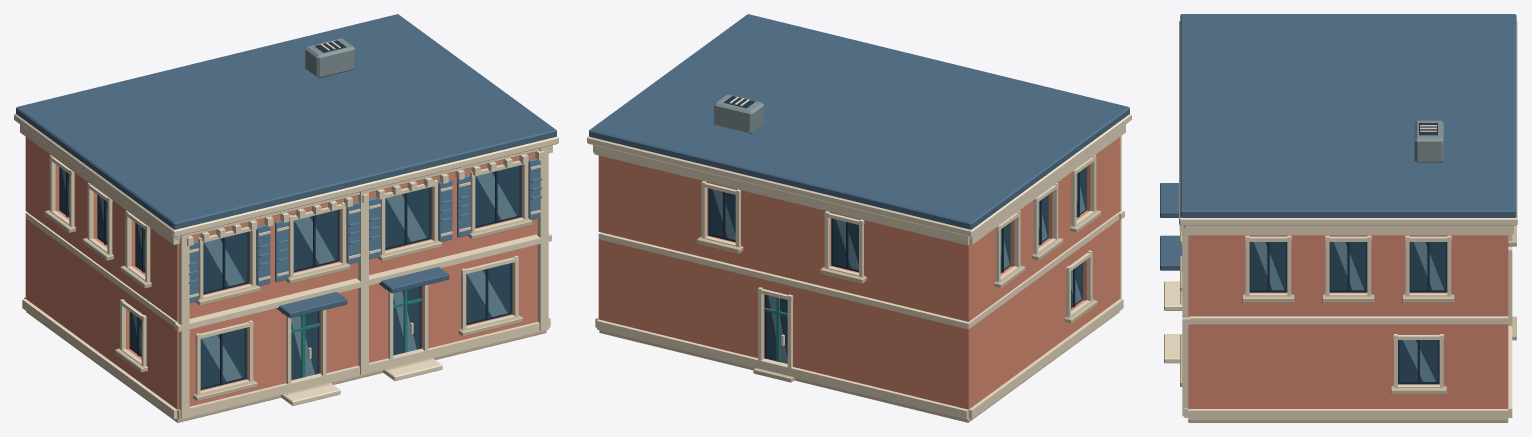
Rendered from four_unit_walkup.glb.
The picture shows the model from 3 angles, left to right: view 1: azimuth 30°, elevation 25°; view 2: azimuth 150°, elevation 25°; view 3: azimuth 270°, elevation 25°; orthographic projection. The views are drawn at different scales.
Parts seen in each view (by area): view 1: FourUnitWalkup_StaticMesh; view 2: FourUnitWalkup_StaticMesh; view 3: FourUnitWalkup_StaticMesh.
Part boxes in pixels (x1,y1,x2,y2): FourUnitWalkup_StaticMesh: (14, 14, 558, 422); FourUnitWalkup_StaticMesh: (587, 14, 1131, 422); FourUnitWalkup_StaticMesh: (1160, 14, 1517, 422).
Bounding box in the file's own units: 12.92 × 7.35 × 9.84.
